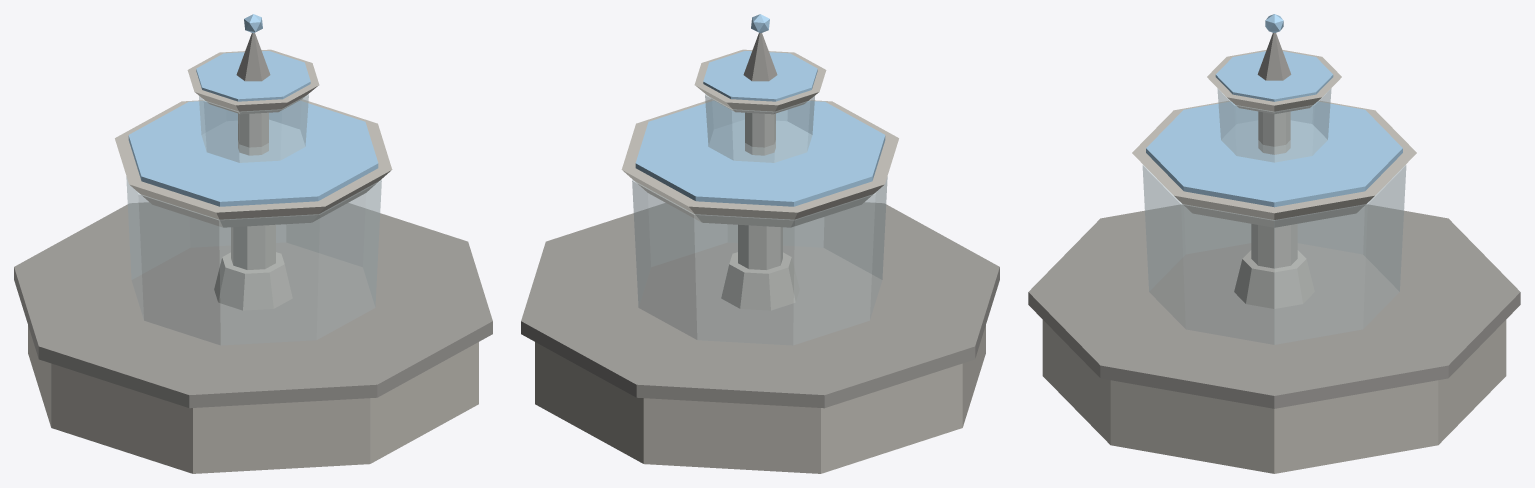
Rendered from prop_fountain_01.glb.
3 views of the same model, side by side, from view 1: azimuth 30°, elevation 25°; view 2: azimuth 150°, elevation 25°; view 3: azimuth 270°, elevation 25° (orthographic).
Visible parts, largest first — view 1: prop_fountain_01_body; view 2: prop_fountain_01_body; view 3: prop_fountain_01_body.
Boxes of the visible parts, x1=… form: prop_fountain_01_body: x1=14, y1=14, x2=492, y2=473; prop_fountain_01_body: x1=521, y1=14, x2=999, y2=473; prop_fountain_01_body: x1=1028, y1=14, x2=1520, y2=473.
Size of the model in its own units: 2.76 by 2.24 by 2.76.
